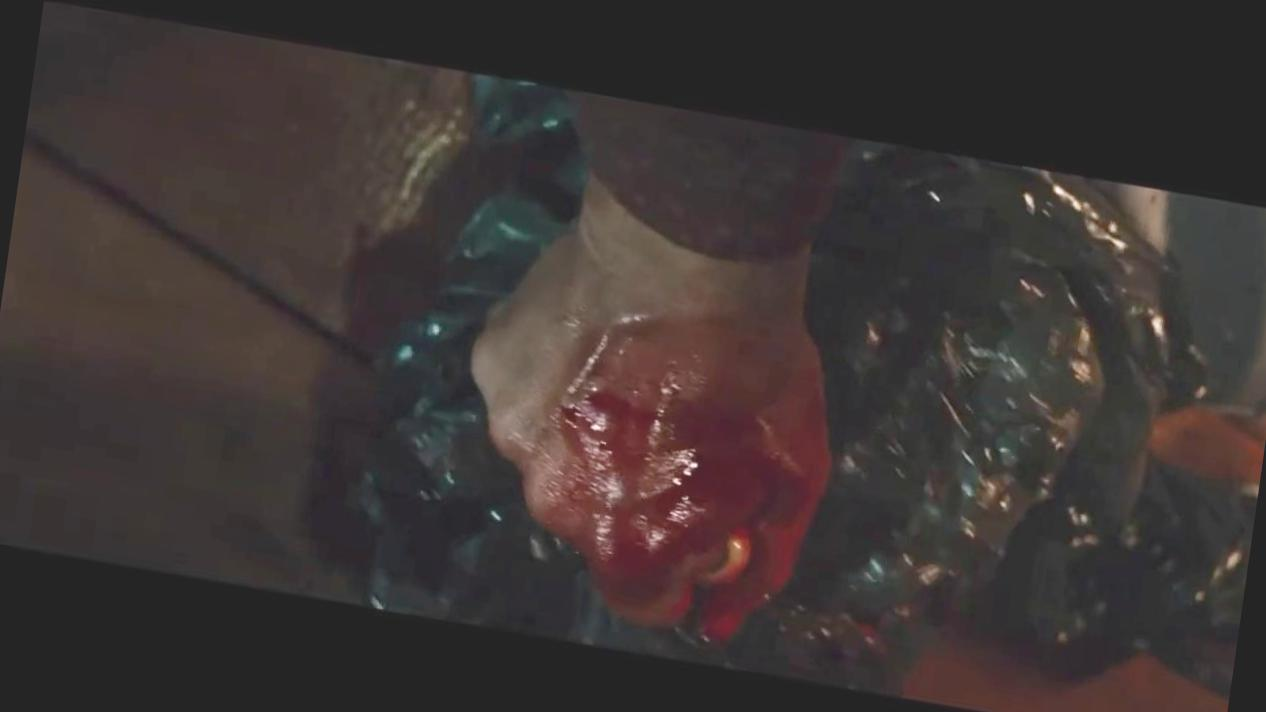Fire: (492, 278, 832, 635)
